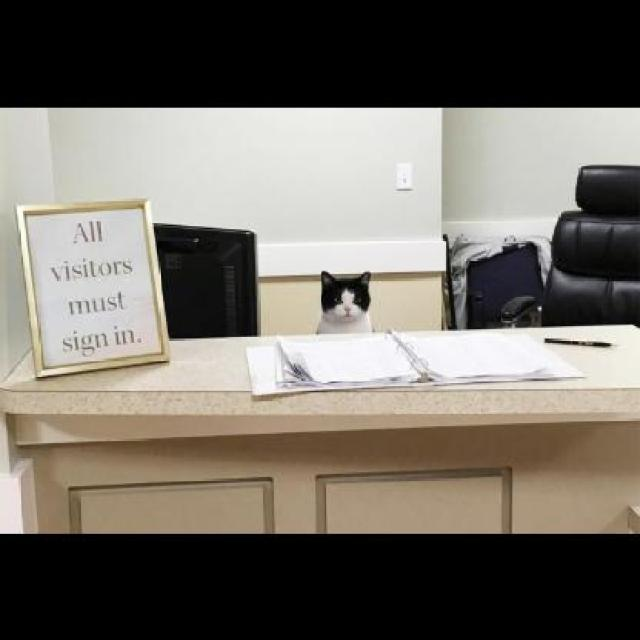unauthorized: (314, 269, 372, 334)
